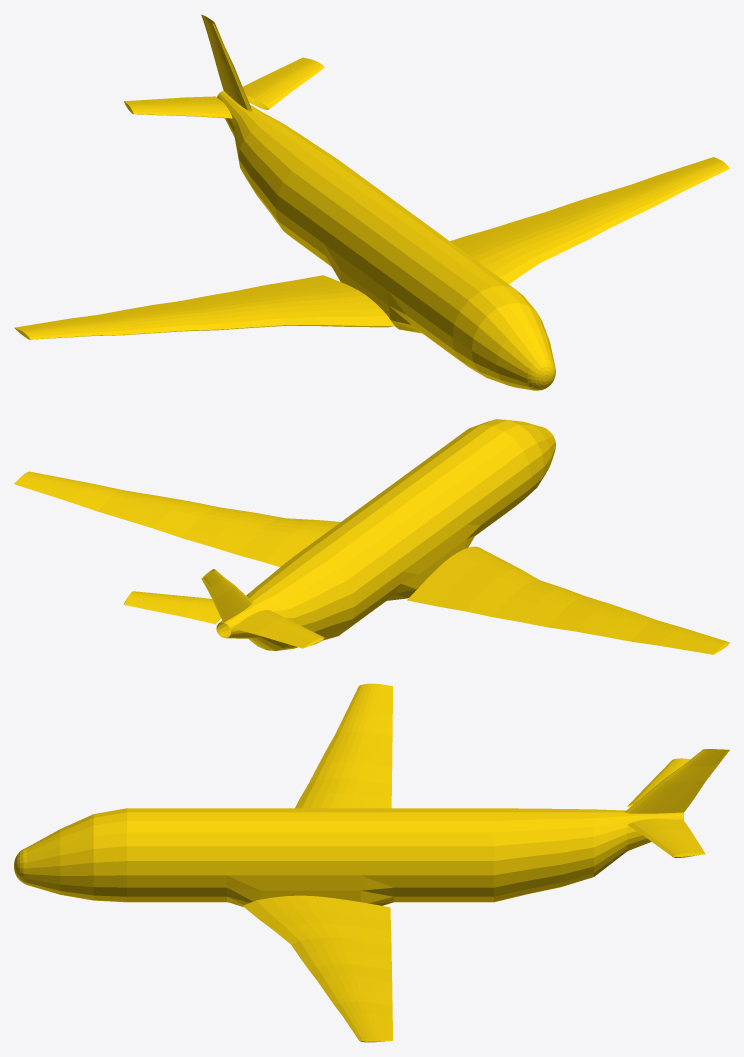
The model's file is airplane.obj.
3 renders of one model, top to bottom at view 1: azimuth 30°, elevation 25°; view 2: azimuth 150°, elevation 25°; view 3: azimuth 270°, elevation 25°, orthographic. The views are drawn at different scales.
Visible parts, largest first — view 1: airplane_airplane.001; view 2: airplane_airplane.001; view 3: airplane_airplane.001.
Part boxes in pixels (x1,y1,x2,y2): airplane_airplane.001: [14, 14, 729, 390]; airplane_airplane.001: [14, 419, 729, 654]; airplane_airplane.001: [14, 683, 729, 1042].
Size of the model in its own units: 1516 by 300 by 1288.
